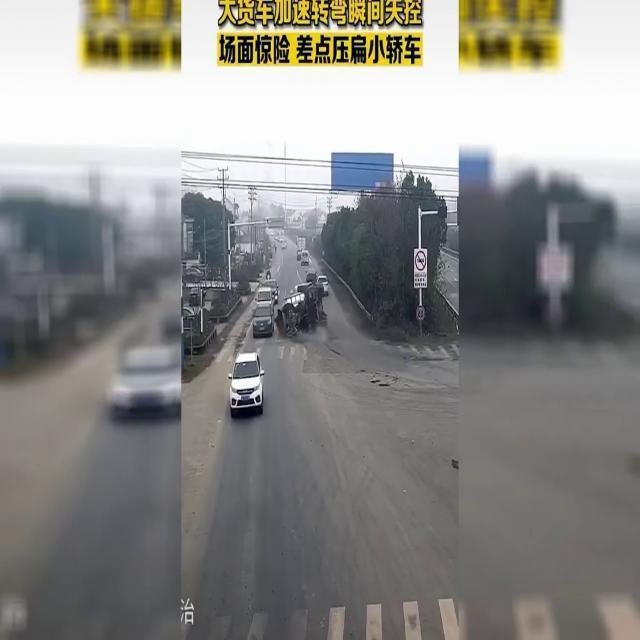accident: (276, 281, 344, 355)
non-accident: (252, 280, 278, 340), (296, 236, 310, 266)
